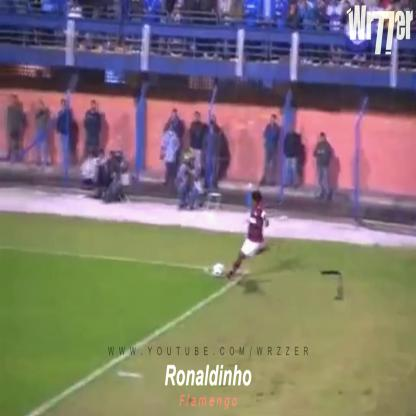corner kick: (189, 185, 294, 325)
